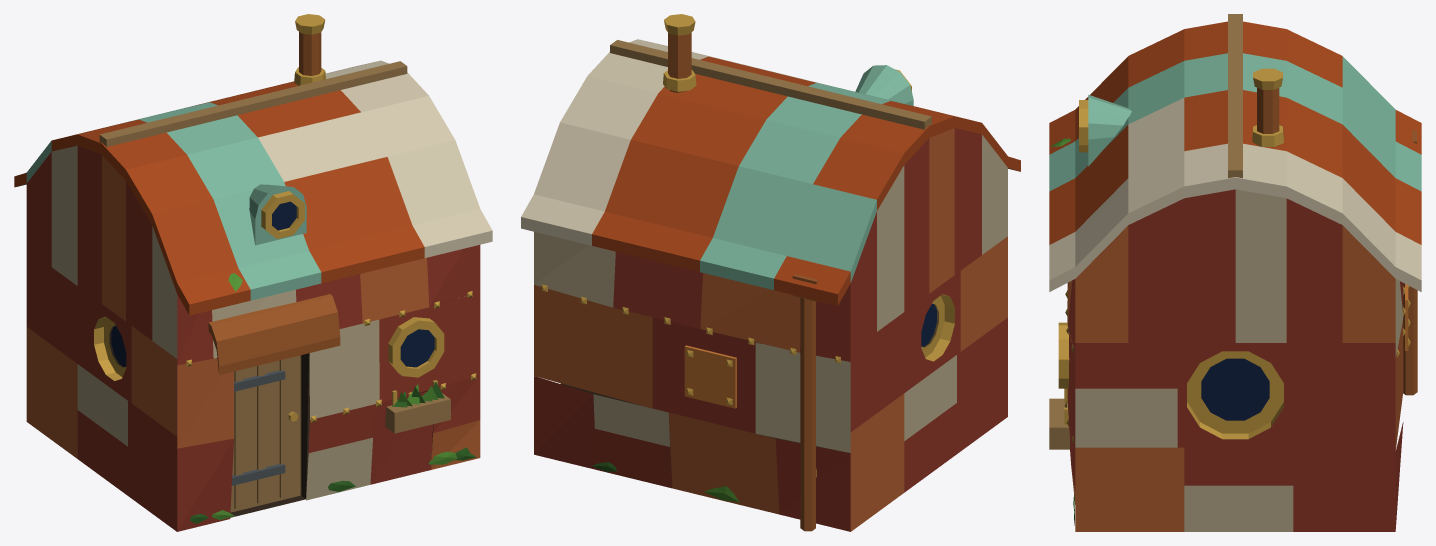
File: plate-cottage-9b52be.glb
3 renders of one model, left to right at view 1: azimuth 30°, elevation 25°; view 2: azimuth 150°, elevation 25°; view 3: azimuth 270°, elevation 25°, orthographic. The views are drawn at different scales.
Visible parts, largest first — view 1: cottage-shell, door-leaf, planter-body; view 2: cottage-shell; view 3: cottage-shell, planter-body.
Boxes of the visible parts, bbox=[...] form: cottage-shell: bbox=[14, 14, 492, 531]; door-leaf: bbox=[230, 355, 300, 512]; planter-body: bbox=[385, 380, 450, 433]; cottage-shell: bbox=[521, 14, 1020, 531]; cottage-shell: bbox=[1049, 14, 1421, 531]; planter-body: bbox=[1049, 388, 1069, 449].
Bounding box in the file's own units: 4 × 4.93 × 4.
